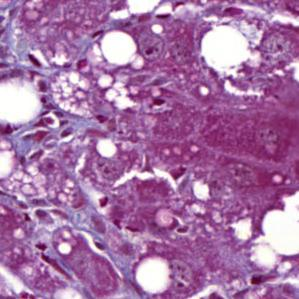steatosis: (97, 29, 136, 68), (134, 258, 174, 294)
